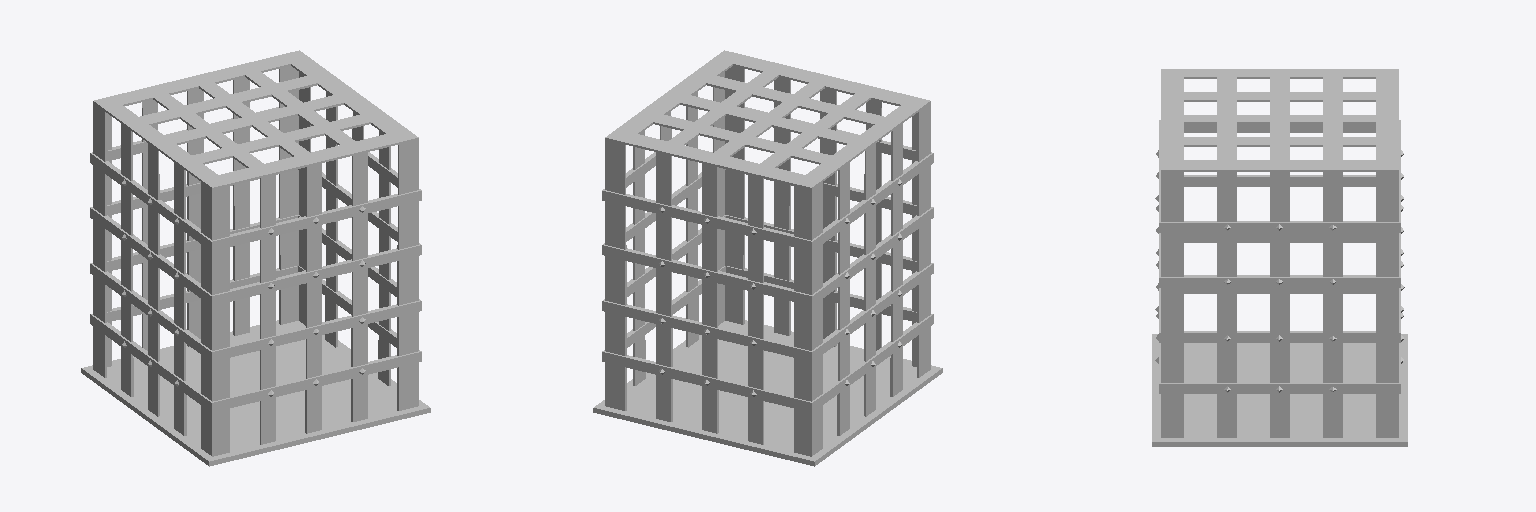
The model's file is torture_device_11_001.obj.
The picture shows the model from 3 angles: view 1: azimuth 30°, elevation 25°; view 2: azimuth 150°, elevation 25°; view 3: azimuth 270°, elevation 25°; orthographic projection.
Visible parts, largest first — view 1: torture_device_011; view 2: torture_device_011; view 3: torture_device_011.
Boxes of the visible parts, box(x1,y1,x2,y2) form: torture_device_011: box(81, 50, 430, 466); torture_device_011: box(593, 50, 942, 466); torture_device_011: box(1152, 69, 1407, 446).
Bounding box in the file's own units: 2.14 × 2.53 × 2.14.